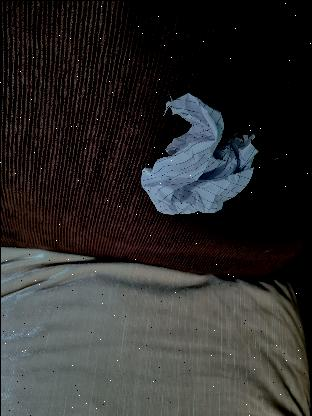Others: (140, 92, 258, 218)
